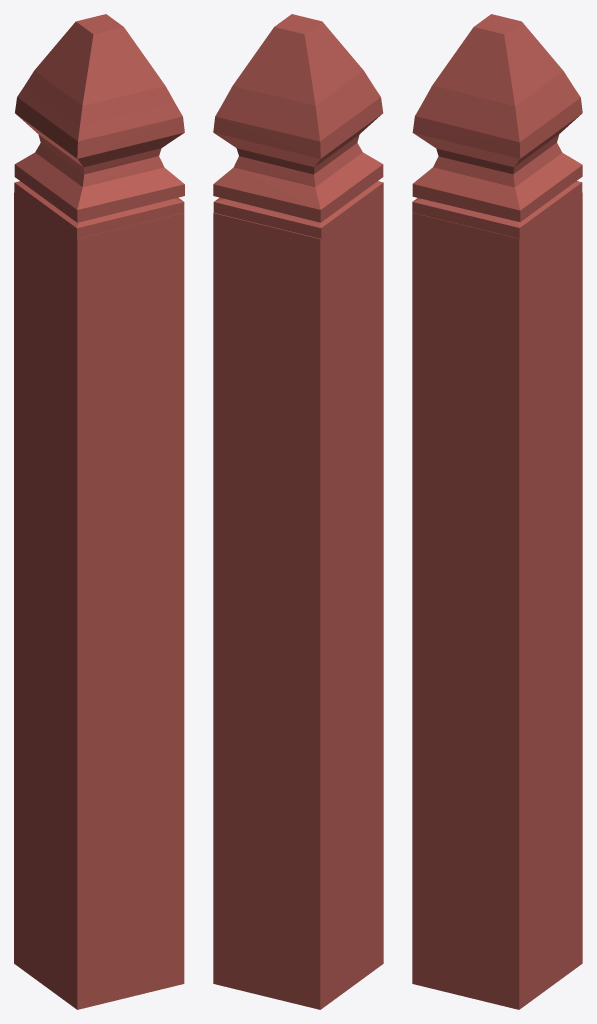
The model's file is fencepost1.obj.
The picture shows the model from 3 angles, left to right: view 1: azimuth 30°, elevation 25°; view 2: azimuth 150°, elevation 25°; view 3: azimuth 330°, elevation 25°; orthographic projection.
Visible parts, largest first — view 1: post, tallpostcap; view 2: post, tallpostcap; view 3: post, tallpostcap.
Boxes of the visible parts, x1,y1,x2,y2 form: post: [14, 193, 184, 1009]; tallpostcap: [14, 14, 184, 239]; post: [213, 194, 383, 1009]; tallpostcap: [213, 14, 383, 239]; post: [412, 193, 582, 1009]; tallpostcap: [412, 14, 582, 239].
Bounding box in the file's own units: 0.7569 × 6.36 × 0.7684.
